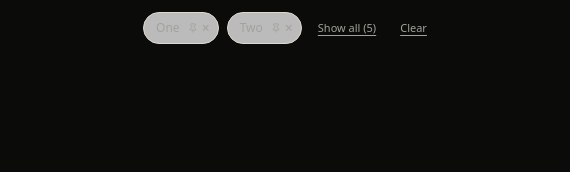
Test: RecentPromptChips › expands to reveal every stored prompt and collapses again
The image size is (570, 172).
Expected: the number of list items is 2, x1=143 y1=12 x2=219 y2=44; x1=227 y1=12 x2=302 y2=44
Click the button with aria-label "show all recent prompts" at (347, 28), box x1=310 y1=16 x2=384 y2=40
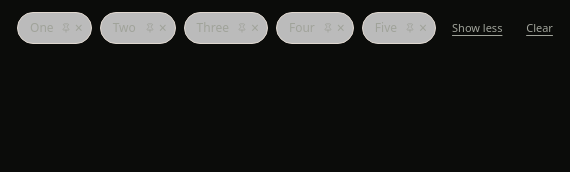
Expected: the number of list items is 5, x1=17 y1=12 x2=92 y2=44; x1=100 y1=12 x2=176 y2=44; x1=184 y1=12 x2=268 y2=44; x1=276 y1=12 x2=354 y2=44; x1=362 y1=12 x2=436 y2=44
Expected: the button with aria-label "reuse recent prompt: five" is shown, x1=363 y1=13 x2=401 y2=43
Expected: the button named "show all recent prompts" is expanded
Click the button with aria-label "show fewer recent prompts" at (477, 28), box x1=444 y1=16 x2=510 y2=40
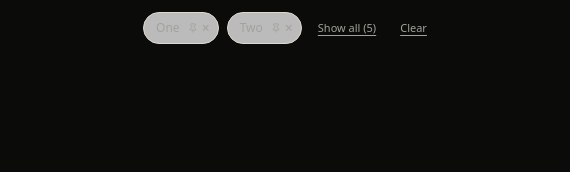
Expected: the number of list items is 2, x1=143 y1=12 x2=219 y2=44; x1=227 y1=12 x2=302 y2=44
Expected: the button "reuse recent prompt: five" is gone
